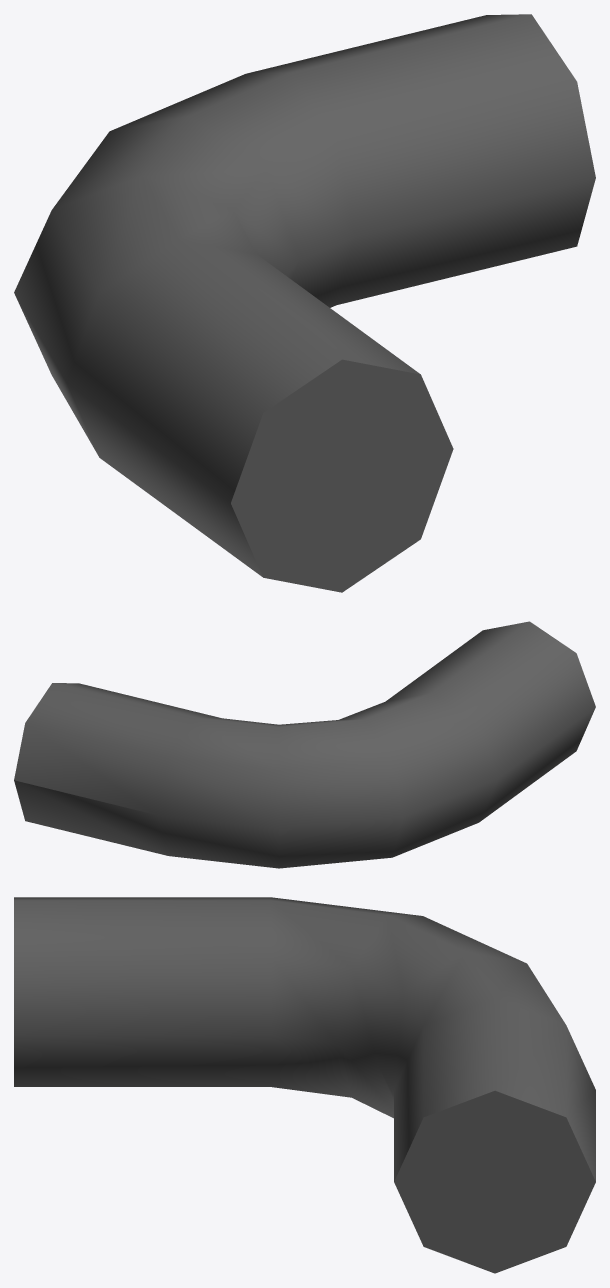
File: pipe_003.fbx
The picture shows the model from 3 angles, top to bottom: view 1: azimuth 30°, elevation 25°; view 2: azimuth 150°, elevation 25°; view 3: azimuth 270°, elevation 25°; orthographic projection. The views are drawn at different scales.
Parts seen in each view (by area): view 1: pipe_003; view 2: pipe_003; view 3: pipe_003.
Part boxes in pixels (bbox=[...]): pipe_003: bbox=[14, 14, 595, 592]; pipe_003: bbox=[14, 621, 595, 868]; pipe_003: bbox=[14, 897, 595, 1273].
Size of the model in its own units: 220 by 232 by 80.58.
